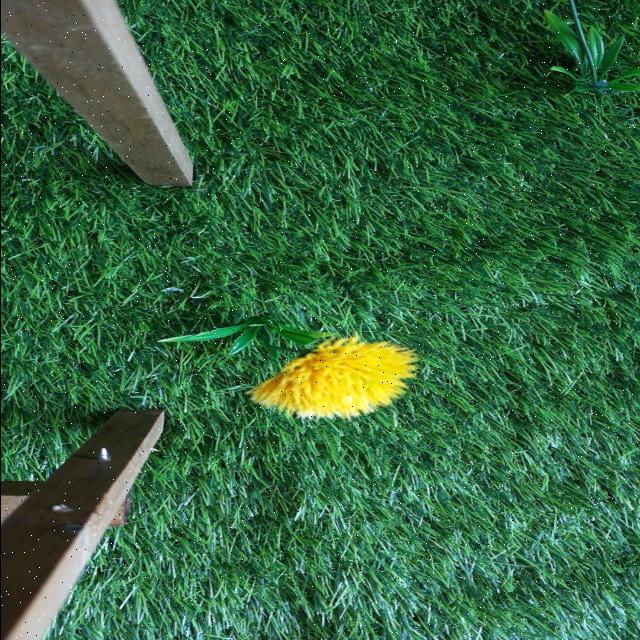base: (542, 13, 640, 99), (158, 313, 332, 355)
flower: (255, 340, 419, 420)
